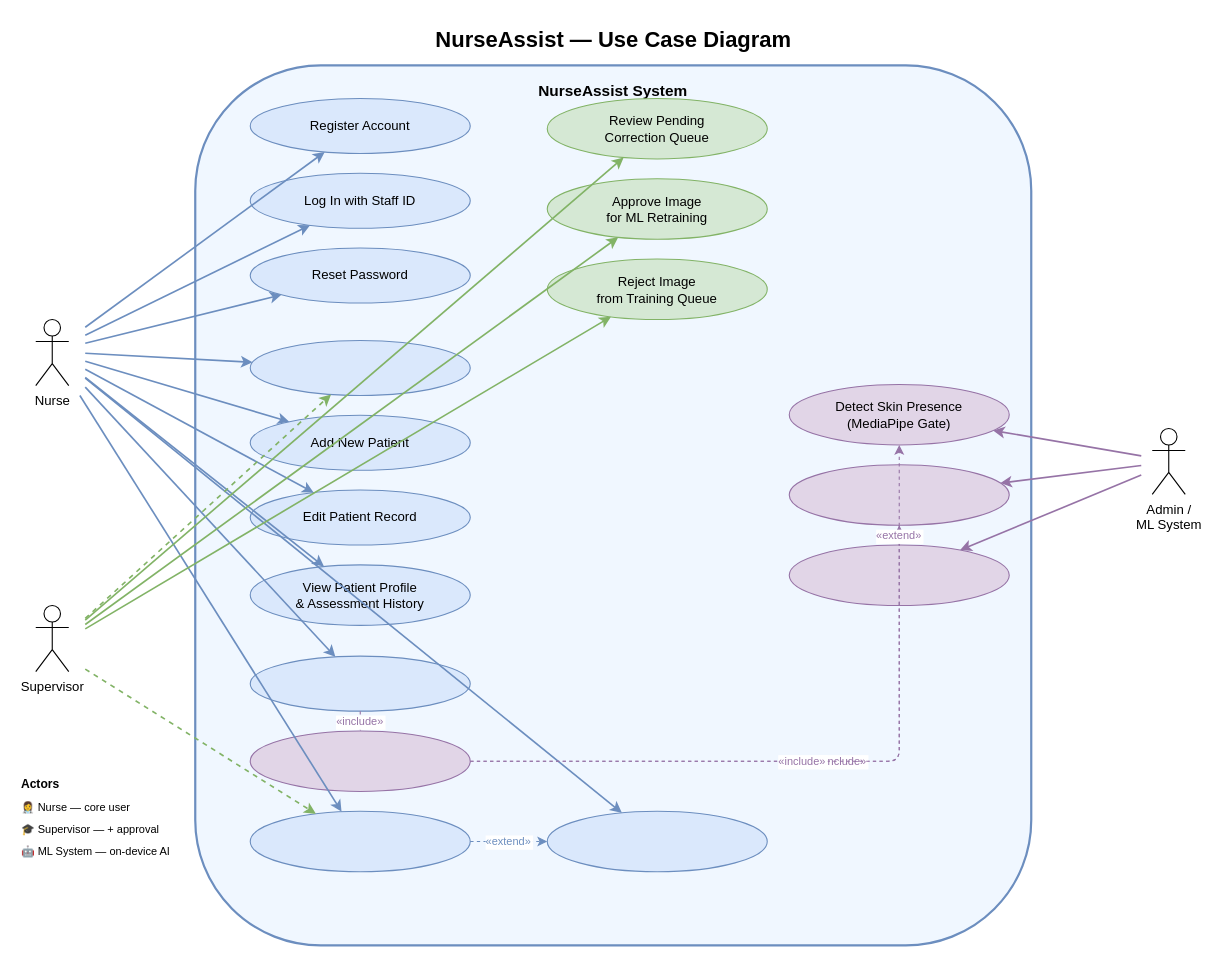
Image size: 1220x965. Some labels were removed from this diagram. Each missing label, with the box of its shape:
Analyse Wound (AI Classification): (249, 730, 470, 791)
Capture Wound Photo: (249, 655, 470, 711)
Classify Wound Type (EfficientNetB0 TFLite): (788, 464, 1009, 525)
Correct Wound Type (Clinician Override): (546, 810, 767, 872)
Flag Specialist Types (Type 3, 4, 6): (788, 544, 1009, 606)
View Analysis Results & Care Plan: (249, 810, 470, 872)
View Patient List: (249, 339, 470, 395)
